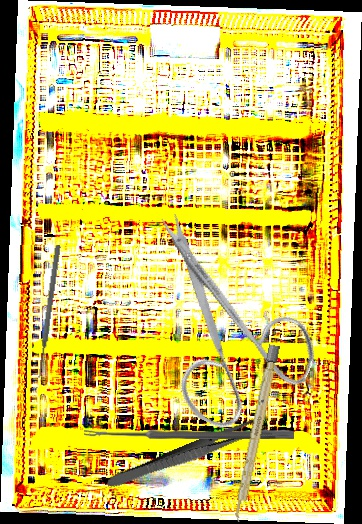Dressing Forceps: (104, 413, 270, 495)
Iris Scissors: (93, 209, 346, 452)
Pusher: (35, 244, 62, 380)
Scalpel Handle: (231, 344, 281, 523)
Surgical Spoon: (84, 429, 294, 439)
